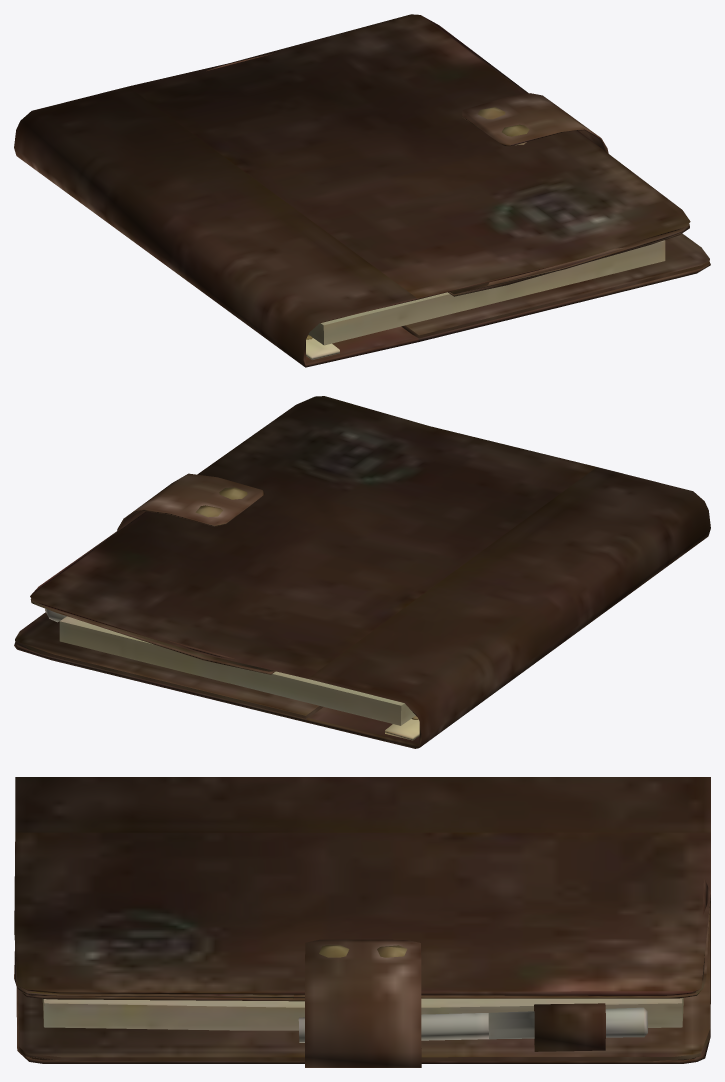
File: binder_notebook.glb
3 renders of one model, top to bottom at view 1: azimuth 30°, elevation 25°; view 2: azimuth 150°, elevation 25°; view 3: azimuth 270°, elevation 25°, orthographic. The views are drawn at different scales.
Visible parts, largest first — view 1: binder_notebook_closed; view 2: binder_notebook_closed; view 3: binder_notebook_closed.
Boxes of the visible parts, x1,y1,x2,y2 form: binder_notebook_closed: (14, 14, 710, 367); binder_notebook_closed: (14, 396, 710, 748); binder_notebook_closed: (14, 777, 710, 1067).
Bounding box in the file's own units: 0.1701 × 0.0249 × 0.1995.
1 material, 1 textured.
